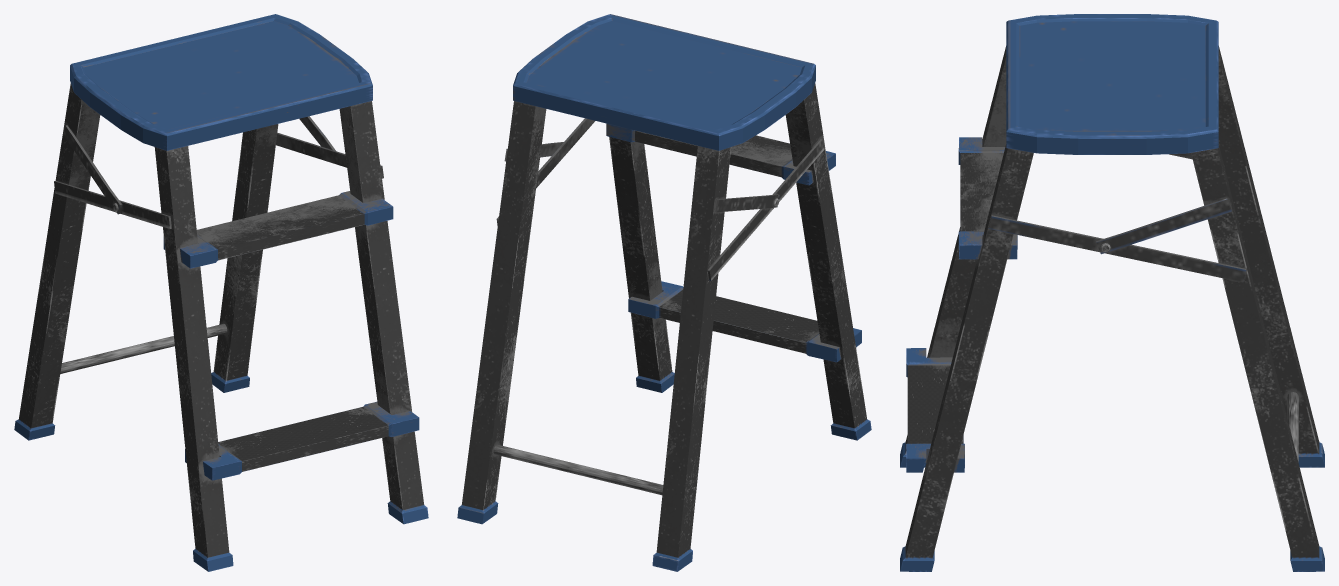
Rendered from Small ladder.fbx.
3 views of the same model, side by side, from view 1: azimuth 30°, elevation 25°; view 2: azimuth 150°, elevation 25°; view 3: azimuth 270°, elevation 25° (orthographic). The views are drawn at different scales.
Parts seen in each view (by area): view 1: Cylinder.002; view 2: Cylinder.002; view 3: Cylinder.002.
Boxes of the visible parts, left/top/right/bottom form: Cylinder.002: left=14, top=14, right=428, bottom=571; Cylinder.002: left=457, top=14, right=871, bottom=571; Cylinder.002: left=900, top=14, right=1324, bottom=571.
Size of the model in its own units: 56.64 by 93.5 by 82.14.
